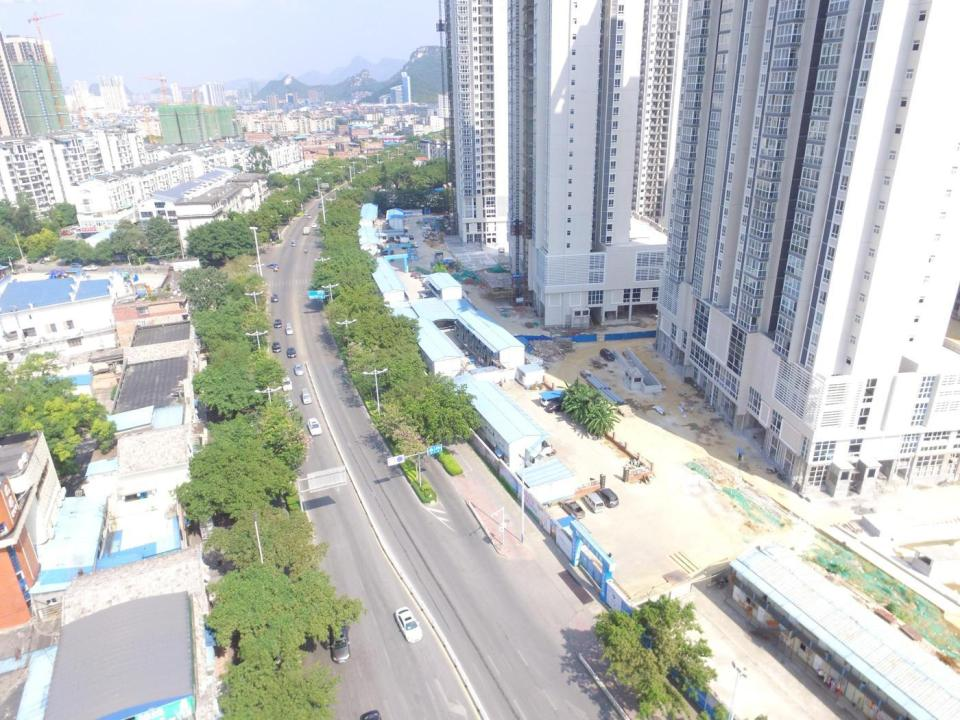car: (394, 606, 423, 643), (329, 620, 350, 662), (559, 498, 585, 518), (307, 418, 322, 436), (546, 400, 568, 412), (600, 348, 614, 362), (540, 397, 559, 406), (281, 377, 292, 391), (293, 364, 304, 375), (260, 233, 274, 241), (286, 347, 295, 358), (271, 342, 280, 353), (380, 250, 393, 257), (270, 294, 279, 302), (267, 263, 279, 269), (71, 262, 82, 268), (60, 232, 70, 238), (269, 231, 281, 236), (415, 273, 425, 279), (410, 271, 422, 276), (70, 225, 81, 230), (275, 318, 280, 328), (421, 277, 429, 282), (315, 229, 322, 234), (290, 241, 297, 246), (317, 203, 323, 208), (409, 234, 414, 240), (311, 223, 317, 227), (414, 242, 418, 247), (308, 214, 312, 218), (402, 229, 407, 232), (38, 260, 44, 262)
van: (583, 492, 605, 513), (596, 488, 618, 508), (434, 251, 456, 269), (301, 388, 312, 405), (283, 395, 293, 412), (83, 264, 98, 270), (285, 324, 292, 335), (303, 226, 310, 235), (60, 229, 74, 233), (304, 212, 308, 216)
